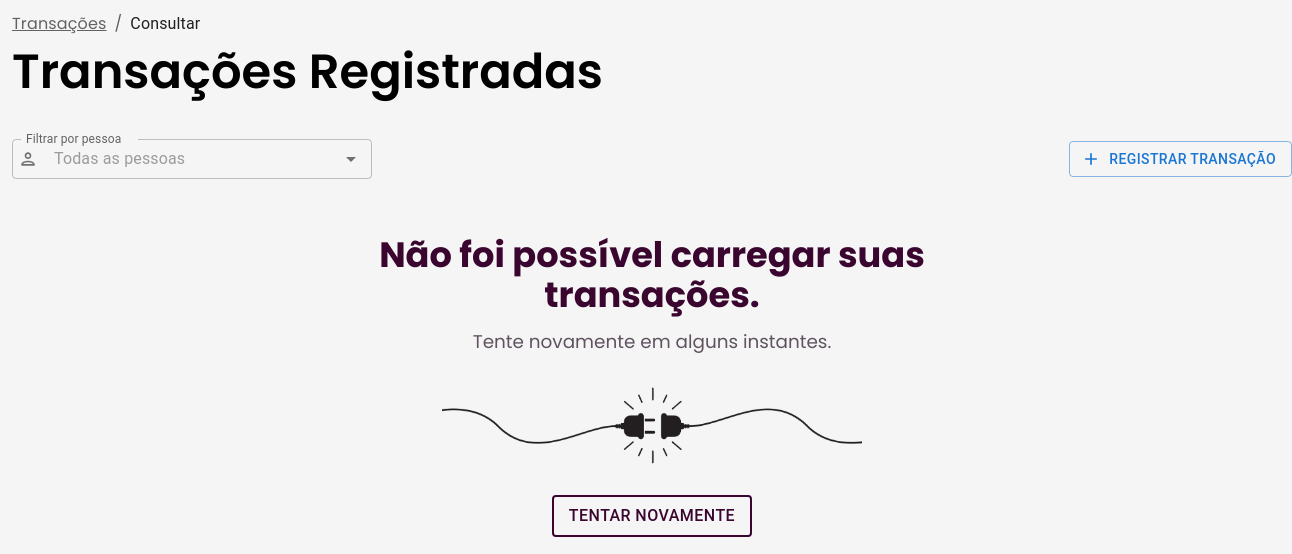
TransactionsConsultPage › exibe erro e permite tentar novamente
Expected: the heading "Não foi possível carregar suas transações." is shown, [379,230,925,319]
Click the button "Tentar novamente" at (652, 516), box [552,495,752,537]
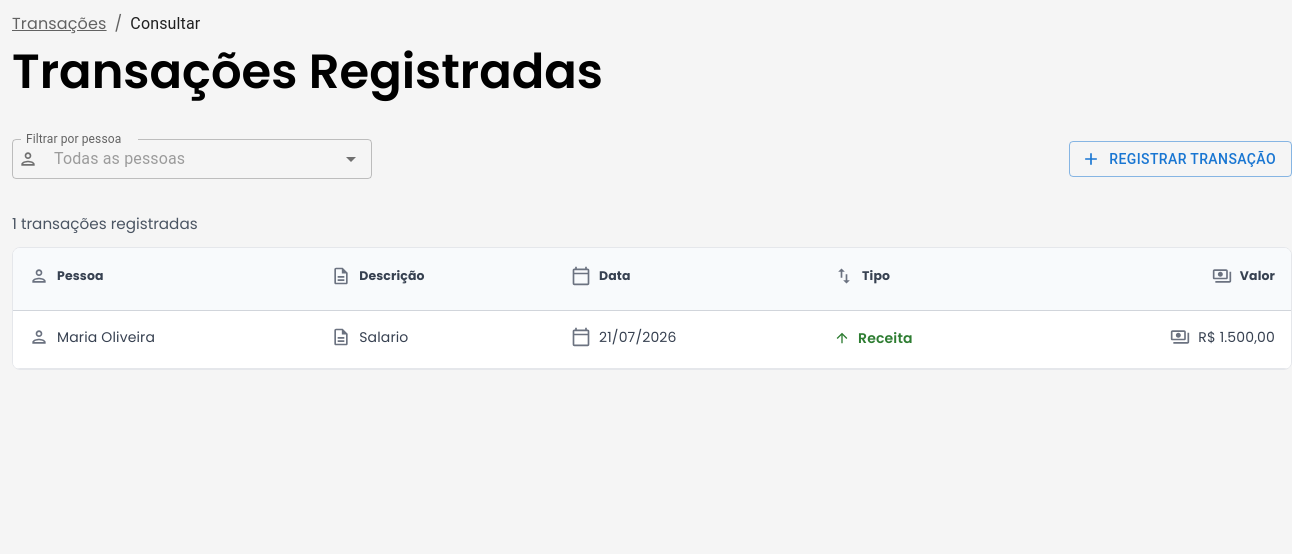
Expected: the text "Maria Oliveira" is shown, [57,327,155,347]
